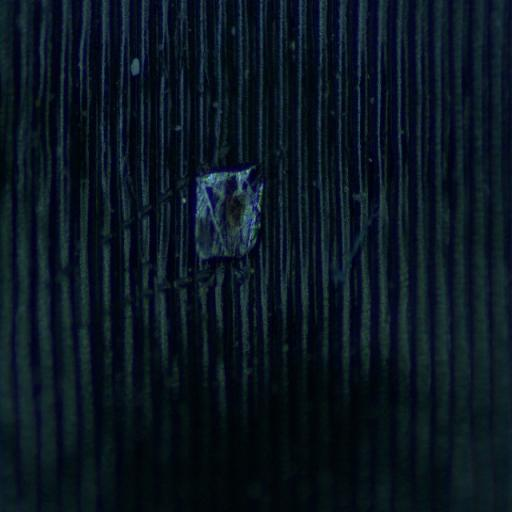mineral: (194, 164, 264, 259)
